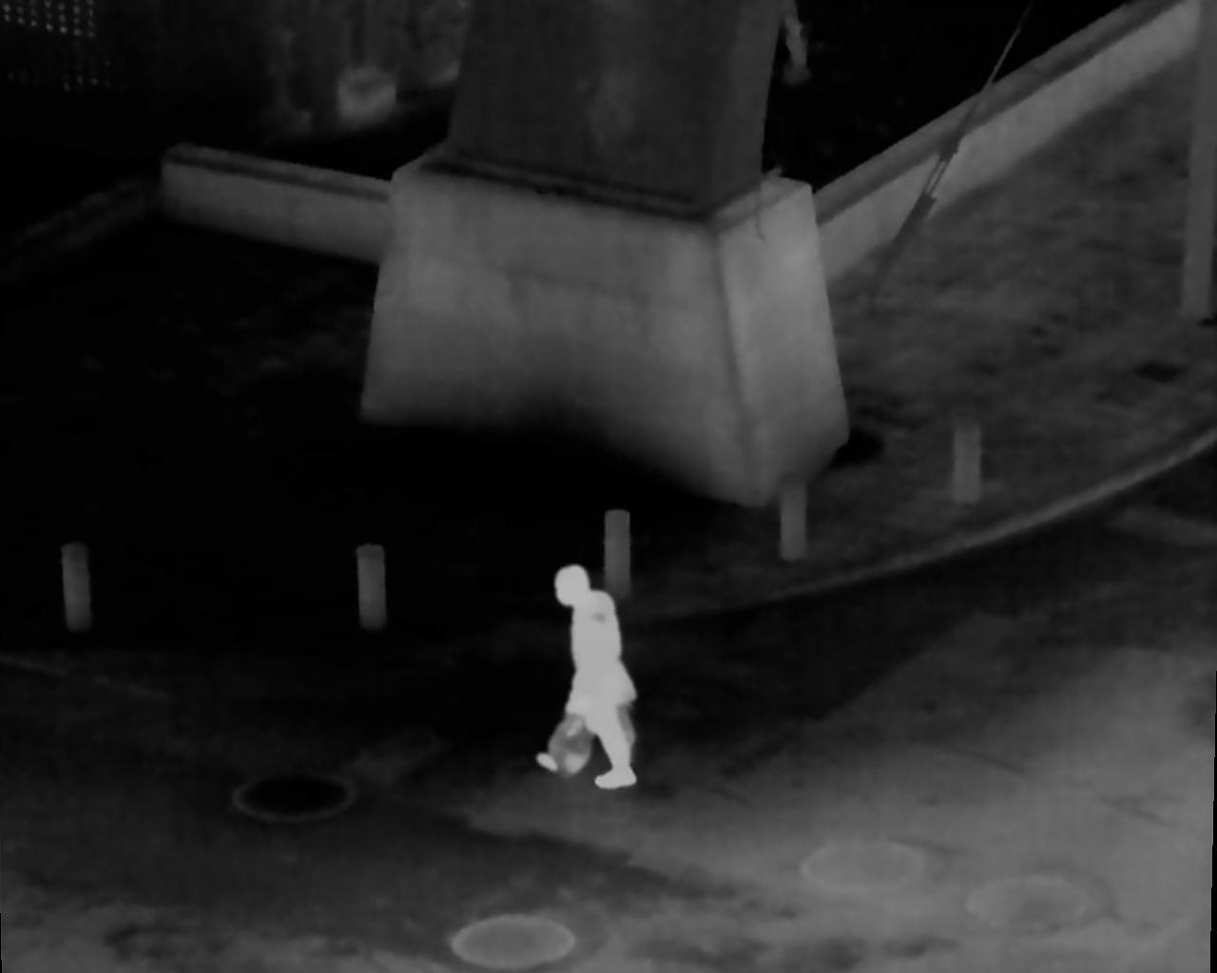person: (535, 557, 641, 780)
